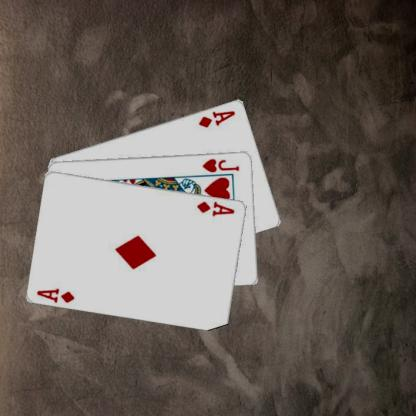AD: (196, 107, 237, 128), (195, 198, 236, 218), (35, 285, 76, 304)
JH: (200, 156, 240, 173)
